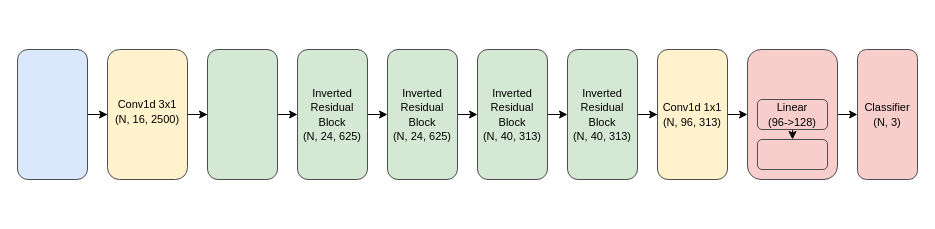
Some shapes in this 935 by 229 pixel diagram are drawn without their labels. Here are the shapes that lost their labels. From the top down, the box of each, then its label:
(16, 48, 88, 180): Input (N, 2, 5000)
(206, 48, 278, 180): Inverted Residual Block (N, 16, 1250)
(746, 48, 838, 180): Global Avg Pool (N, 96)
(756, 138, 828, 170): Linear (128->3)
